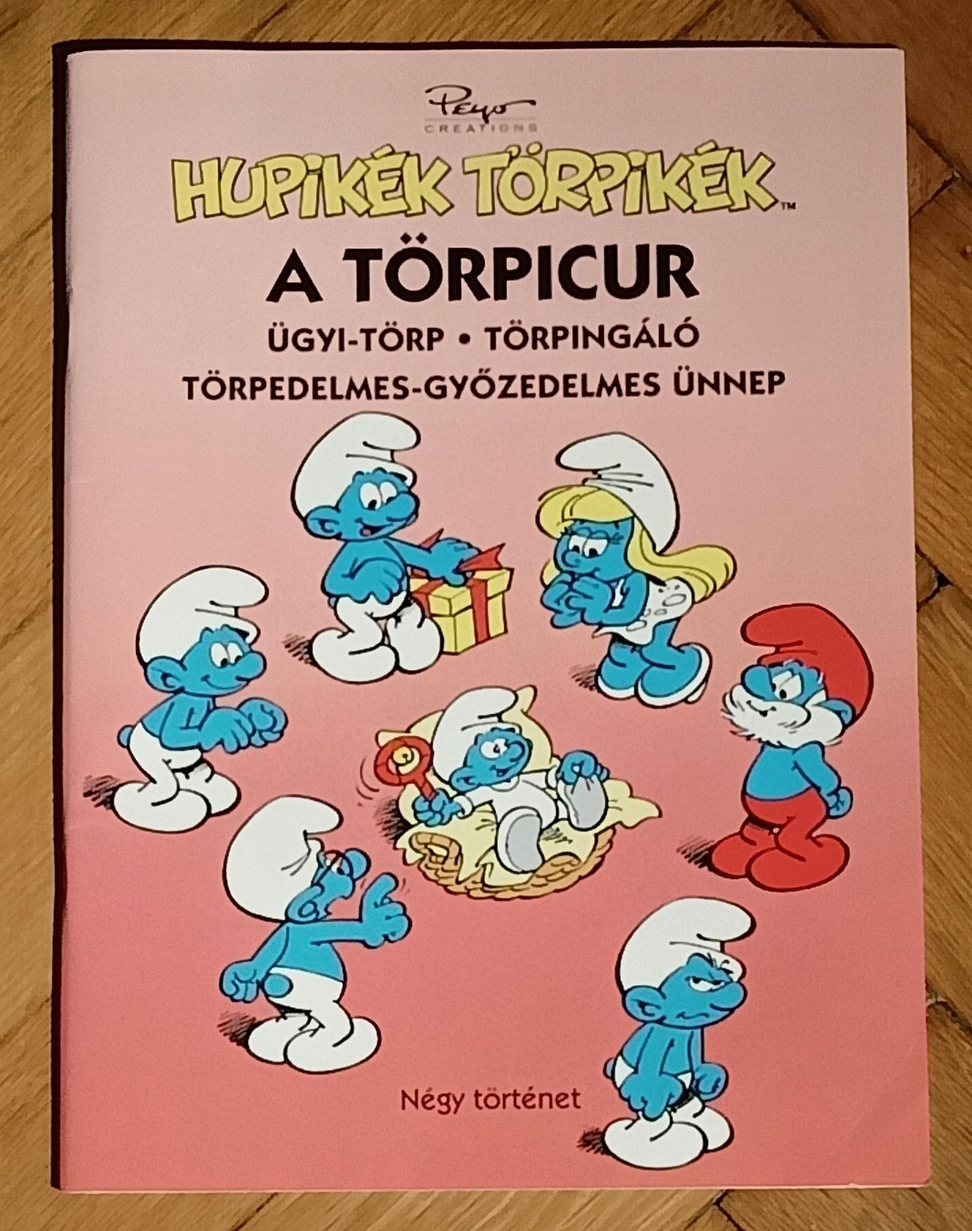comic: (57, 44, 927, 1190)
